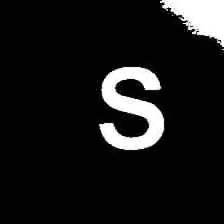LTR_S: (95, 60, 170, 155)
